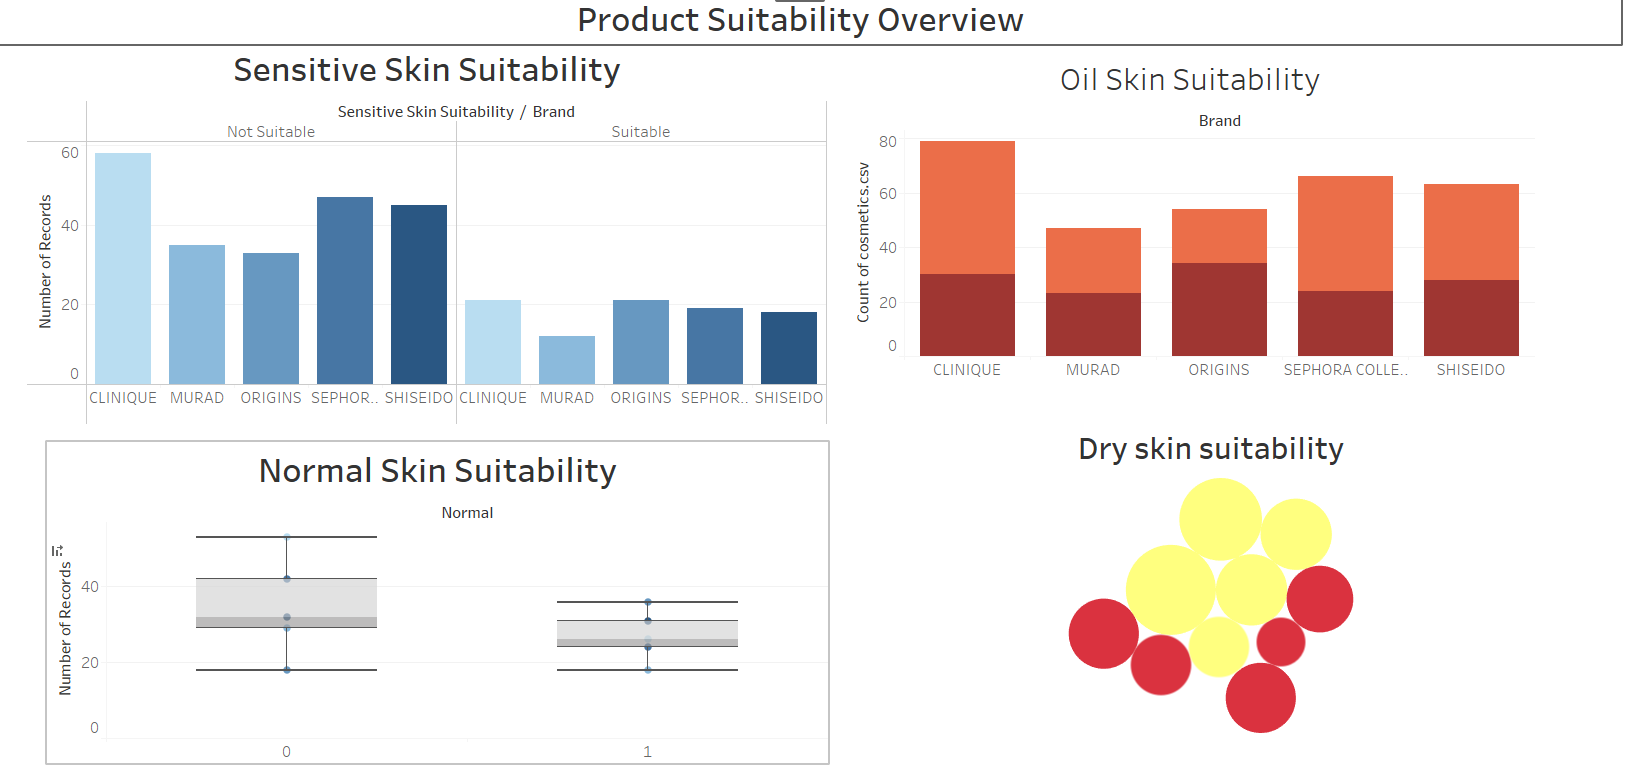

The page's visual inventory and layout, read from the dashboard file:
{"tool":"tableau","page":{"name":"Dashboard 2","canvas":[1000,1000],"units":"permille","ordinal":1},"visuals":[{"type":"title","box":[4.8,10,990.3,66.2]},{"type":"dashboard-object","box":[41.6,13.7,87.5,46.2]},{"type":"worksheet","title":"Sensitive Skin Suitability","mark":"Automatic","rows":["Name"],"cols":["Calculation_1682094485875347456","Brand"],"box":[33.2,82.4,482.8,469.4]},{"type":"worksheet","title":"Oil Skin Suitability","mark":"Bar","rows":["cosmetics.csv_7A91C343A69544FB9B29DD5A3A0506FA"],"cols":["Brand"],"box":[526.9,87.4,416.4,428.2]},{"type":"worksheet","title":"Dry Skin Suitability","mark":"Circle","box":[564.9,548.1,365.7,388.3]},{"type":"worksheet","title":"Normal Skin Suitability","mark":"Circle","rows":["cosmetics.csv_7A91C343A69544FB9B29DD5A3A0506FA"],"cols":["Normal"],"box":[45.3,573,471.3,400.8]}]}

Visuals, with their boxes on the dashboard's canvas, which has no fixed pixel size, in thousandths of its width and height (x1, y1, x2, y2). These are canvas units, not pixel positions in the 1629x776 screenshot, which may show the page scaled, cropped or inside an application window:
title: x1=5, y1=10, x2=995, y2=76
dashboard-object: x1=42, y1=14, x2=129, y2=60
"Sensitive Skin Suitability" worksheet: x1=33, y1=82, x2=516, y2=552
"Oil Skin Suitability" worksheet (Bar marks): x1=527, y1=87, x2=943, y2=516
"Dry Skin Suitability" worksheet (Circle marks): x1=565, y1=548, x2=931, y2=936
"Normal Skin Suitability" worksheet (Circle marks): x1=45, y1=573, x2=517, y2=974
